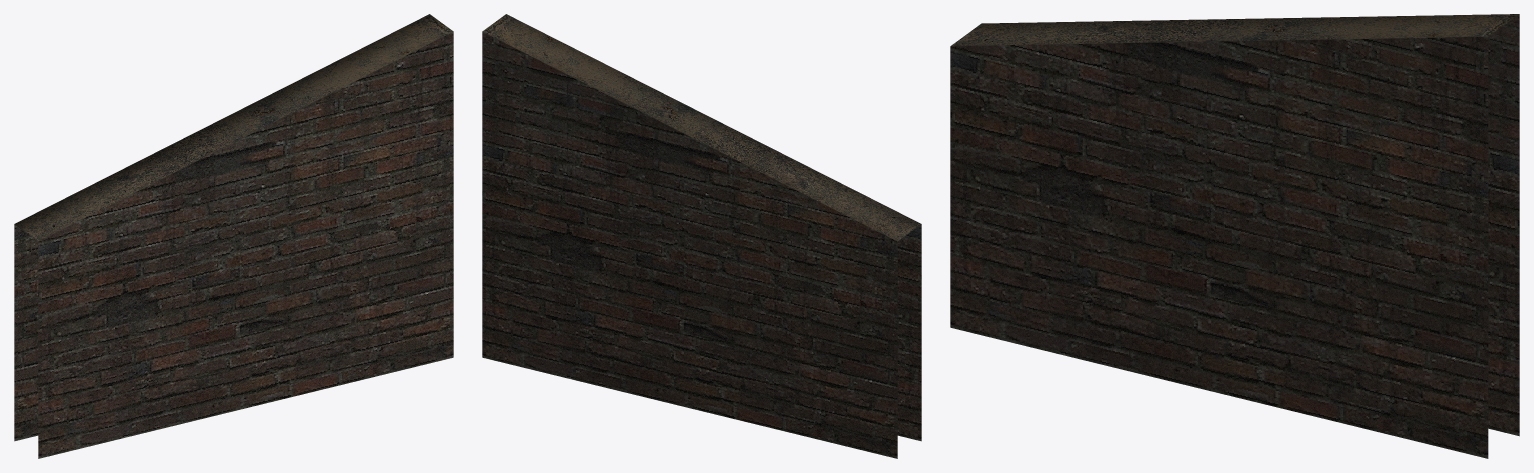
Rendered from wall_top_part_hs_3.glb.
3 renders of one model, left to right at view 1: azimuth 30°, elevation 25°; view 2: azimuth 150°, elevation 25°; view 3: azimuth 330°, elevation 25°, orthographic. The views are drawn at different scales.
Visible parts, largest first — view 1: wall_top_part_hs_3; view 2: wall_top_part_hs_3; view 3: wall_top_part_hs_3.
Part boxes in pixels (x1,y1,x2,y2): wall_top_part_hs_3: (14, 14, 453, 458); wall_top_part_hs_3: (482, 14, 921, 458); wall_top_part_hs_3: (950, 14, 1519, 458).
Bounding box in the file's own units: 4 × 3 × 0.4.
Materials: 2 (2 with a texture image).
